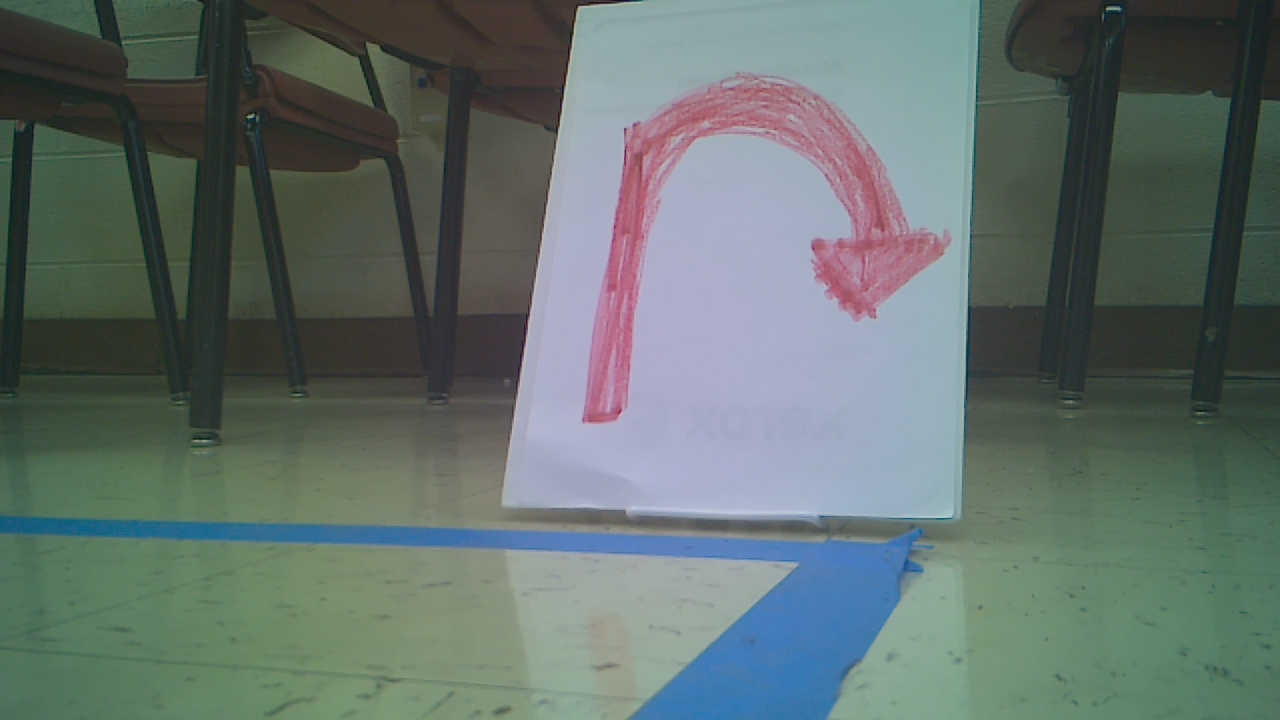uturn: (565, 58, 956, 434)
